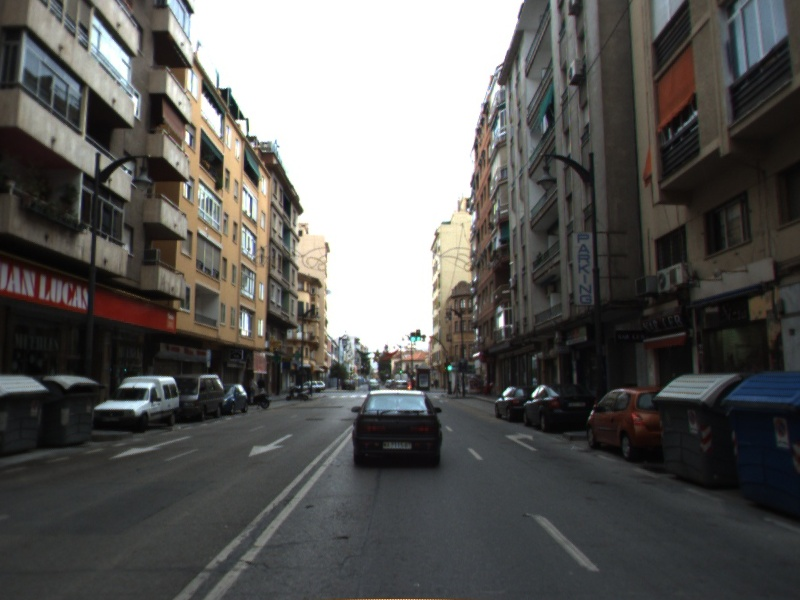RIGHT: (504, 430, 539, 453)
